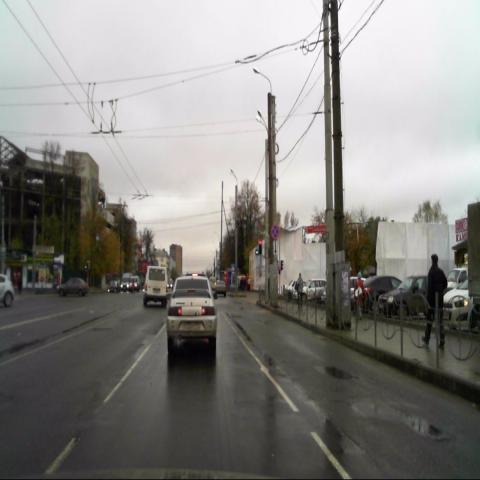3_27: (270, 224, 279, 240)
